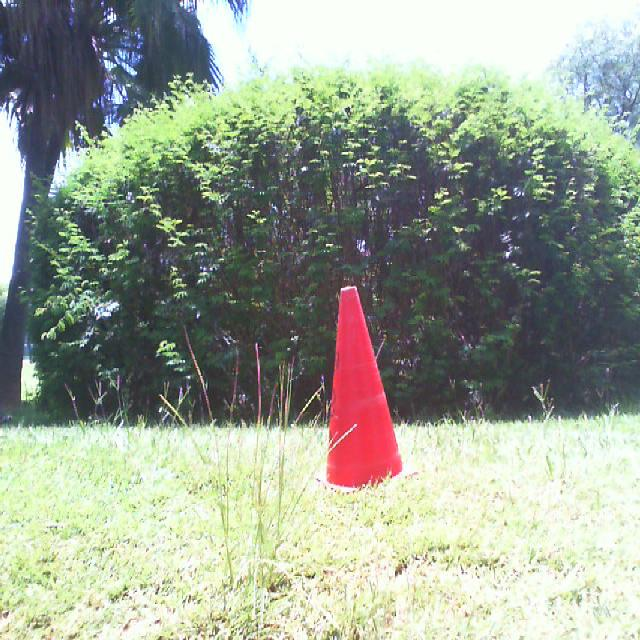cone: (314, 287, 418, 493)
